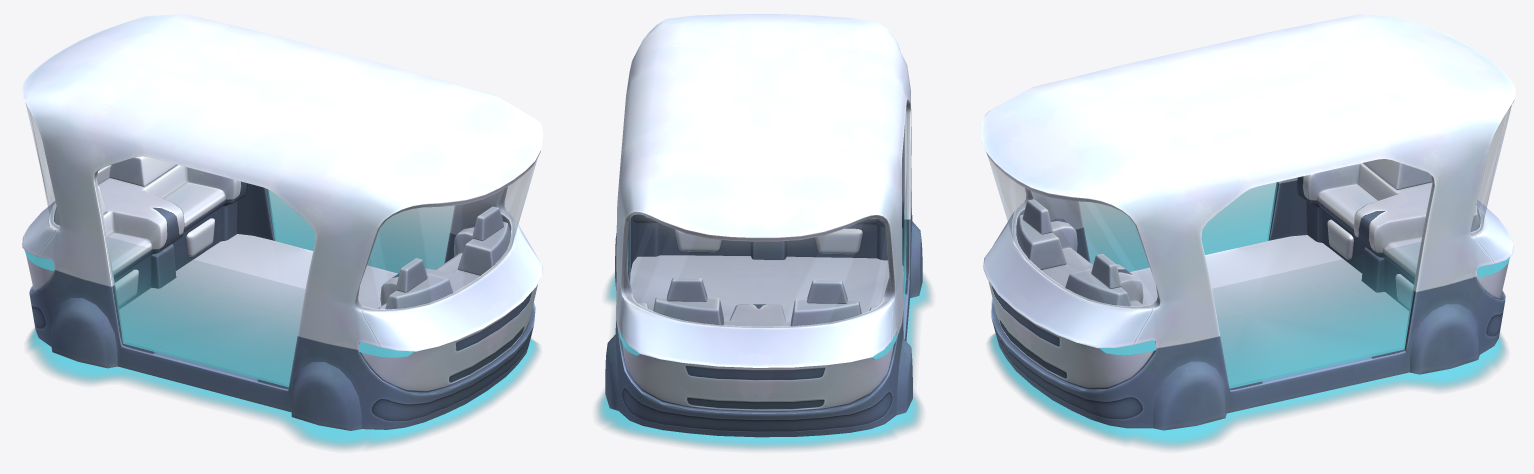
Rendered from obj_shuttle01.gltf.
The picture shows the model from 3 angles, left to right: view 1: azimuth 30°, elevation 25°; view 2: azimuth 150°, elevation 25°; view 3: azimuth 270°, elevation 25°; orthographic projection. The views are drawn at different scales.
Visible parts, largest first — view 1: obj_shuttle01_mesh, obj_shuttle01_shield02, obj_shuttle01_shield01; view 2: obj_shuttle01_mesh, obj_shuttle01_shield02; view 3: obj_shuttle01_mesh, obj_shuttle01_shield01, obj_shuttle01_shield02.
Boxes of the visible parts, <box> form: obj_shuttle01_mesh: <box>21,14,543,449</box>; obj_shuttle01_shield02: <box>107,240,304,387</box>; obj_shuttle01_shield01: <box>267,189,453,273</box>; obj_shuttle01_mesh: <box>596,14,931,450</box>; obj_shuttle01_shield02: <box>902,180,906,311</box>; obj_shuttle01_mesh: <box>981,14,1515,449</box>; obj_shuttle01_shield01: <box>1212,244,1421,388</box>; obj_shuttle01_shield02: <box>1080,182,1278,271</box>.
Size of what is drawn, in the model's own units: 5.42 by 3.22 by 5.93.
3 materials, 3 textured.
